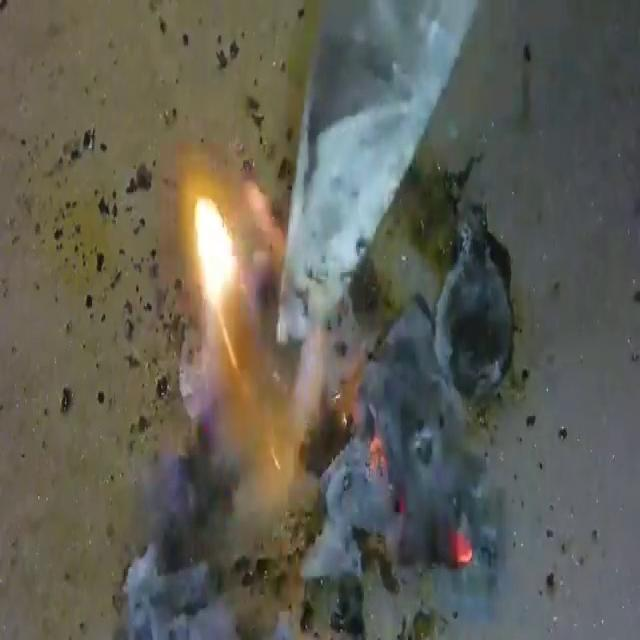Fire: (133, 110, 342, 532)
